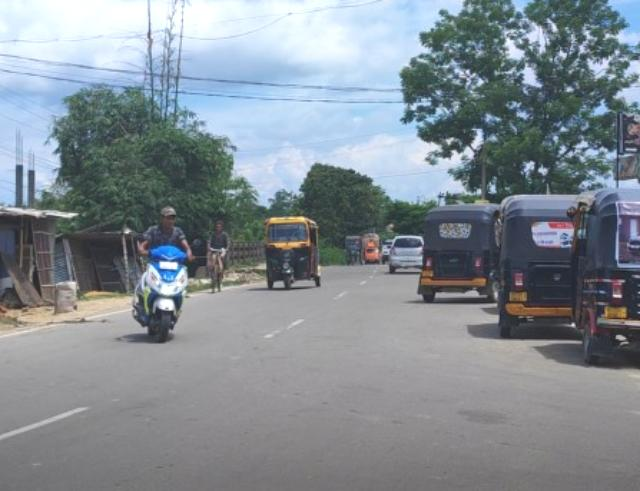licensePlate: (157, 263, 179, 272)
motorcycle: (128, 206, 191, 343)
withoutHelmet: (154, 207, 179, 231)
